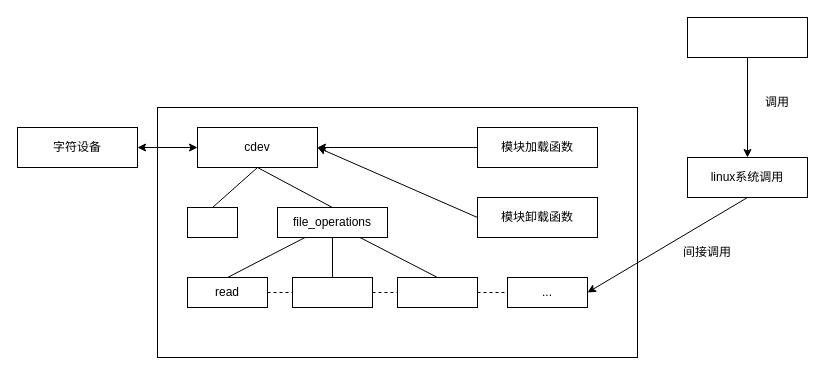
This 825x375 diagram has some shape labels left out. The shapes that lost their labels are listed below. From the top down, each one's centre as x and y in pixels, then its label:
At point 747,37: "用户空间".
At point 212,222: "dev_t".
At point 332,292: "write".
At point 437,292: "ioctl".
